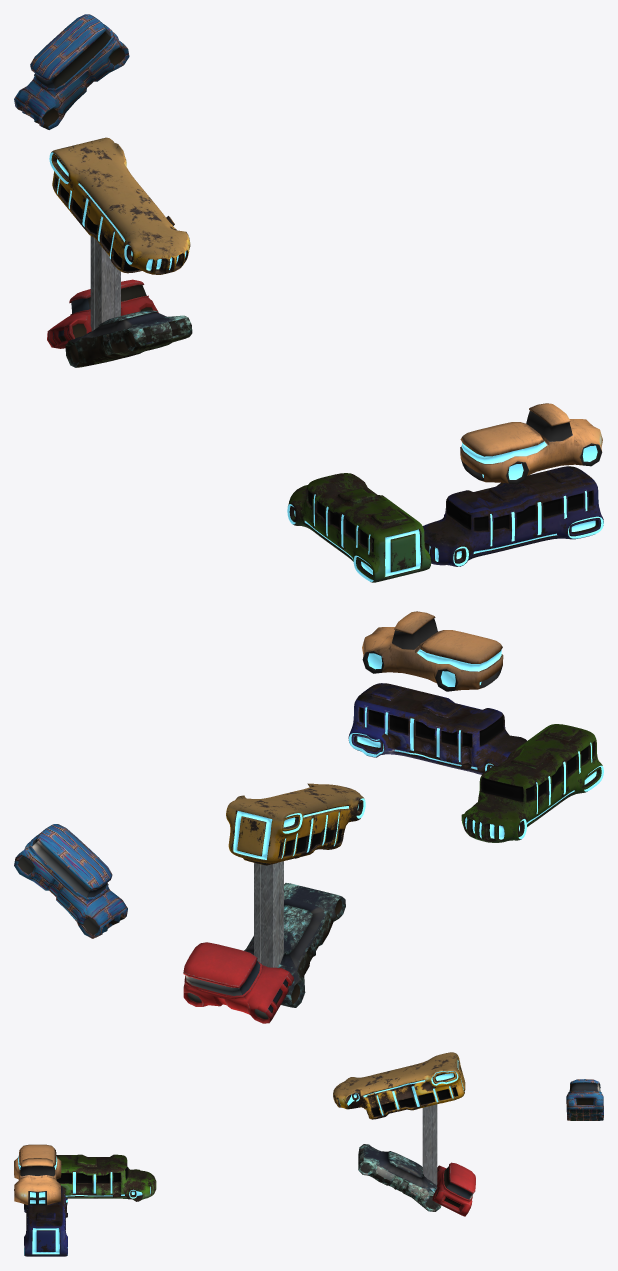
The model's file is Decorative Cars.glb.
3 views of the same model, one above another, from view 1: azimuth 30°, elevation 25°; view 2: azimuth 150°, elevation 25°; view 3: azimuth 270°, elevation 25° (orthographic). The views are drawn at different scales.
Visible parts, largest first — view 1: Decorative Cars; view 2: Decorative Cars; view 3: Decorative Cars.
Boxes of the visible parts, bbox=[...] form: Decorative Cars: bbox=[14, 14, 603, 582]; Decorative Cars: bbox=[14, 611, 603, 1023]; Decorative Cars: bbox=[14, 1052, 603, 1256].
Size of what is drawn, in the model's own units: 18.53 by 17.96 by 62.08.
Materials: 13 (8 with a texture image).
